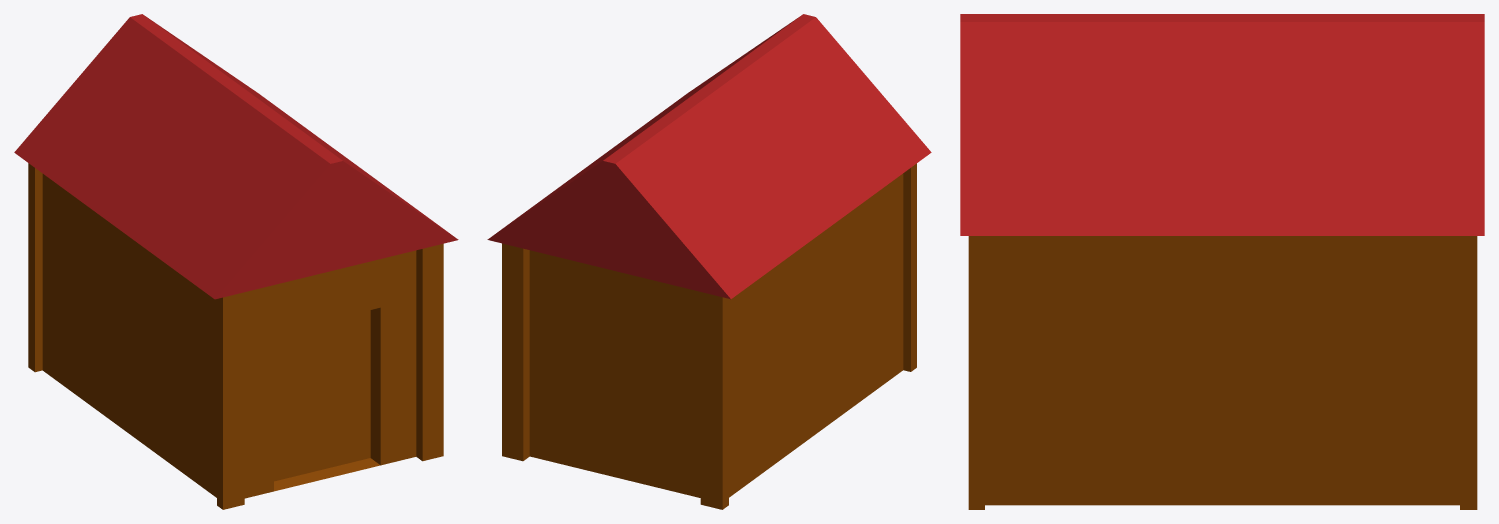
File: Hut.fbx
The picture shows the model from 3 angles, left to right: view 1: azimuth 30°, elevation 25°; view 2: azimuth 150°, elevation 25°; view 3: azimuth 270°, elevation 25°; orthographic projection. The views are drawn at different scales.
Visible parts, largest first — view 1: Cube, Cube.001; view 2: Cube, Cube.001; view 3: Cube, Cube.001.
Part boxes in pixels (x1,y1,x2,y2): Cube: [28, 163, 443, 509]; Cube.001: [14, 14, 458, 299]; Cube: [502, 163, 916, 509]; Cube.001: [487, 14, 931, 299]; Cube: [968, 236, 1477, 509]; Cube.001: [960, 14, 1484, 235].
Bounding box in the file's own units: 237 × 337 × 300.
